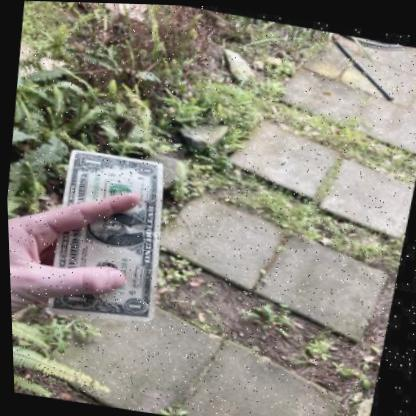one-front: (51, 148, 168, 322)
